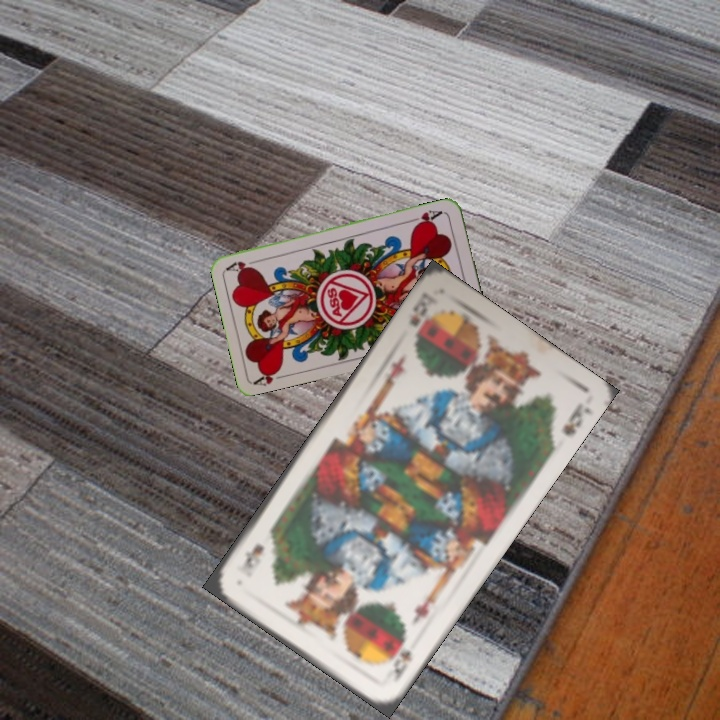HA: (251, 364, 291, 388), (407, 206, 447, 229)
SK: (385, 632, 415, 683), (405, 290, 440, 329)
